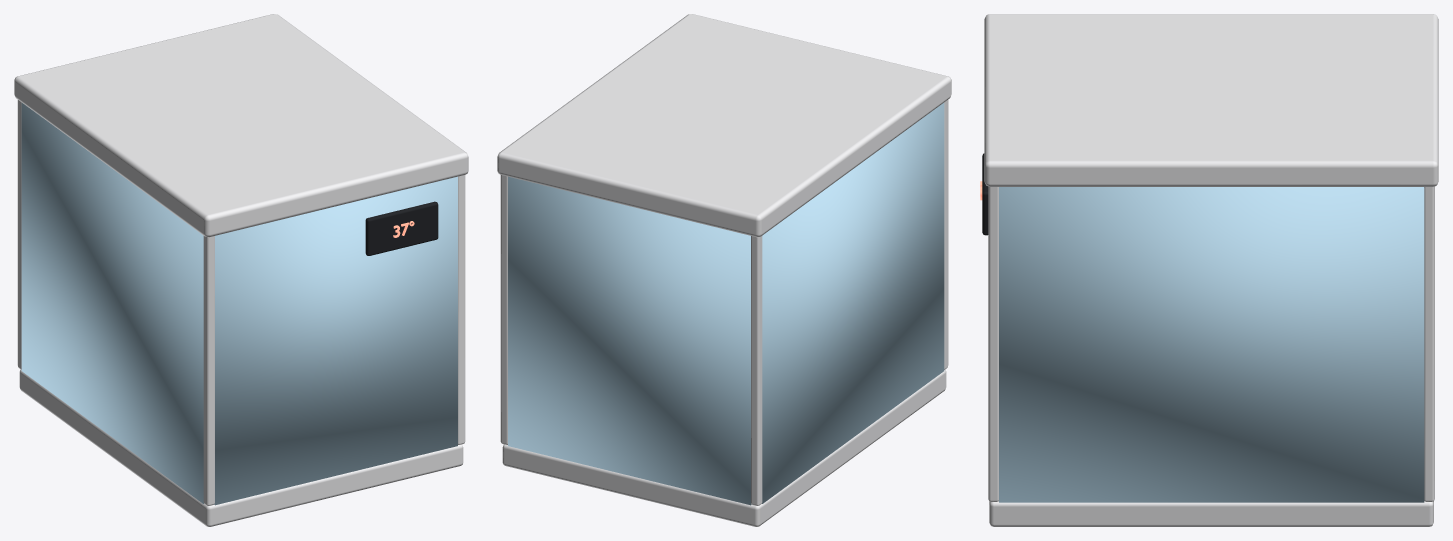
Rendered from Incubator.fbx.
3 views of the same model, side by side, from view 1: azimuth 30°, elevation 25°; view 2: azimuth 150°, elevation 25°; view 3: azimuth 270°, elevation 25° (orthographic). The views are drawn at different scales.
Parts seen in each view (by area): view 1: Body__Glass, Body__White, Body__Black; view 2: Body__Glass, Body__White; view 3: Body__Glass, Body__White.
Part boxes in pixels (left/top/right/bottom): Body__Glass: left=21, top=103, right=457, bottom=505; Body__White: left=14, top=14, right=468, bottom=526; Body__Black: left=365, top=201, right=438, bottom=255; Body__Glass: left=508, top=103, right=944, bottom=505; Body__White: left=497, top=14, right=951, bottom=526; Body__Glass: left=999, top=187, right=1424, bottom=502; Body__White: left=984, top=14, right=1438, bottom=526.
Bounding box in the file's own units: 3.7 × 4.7 × 4.74.
